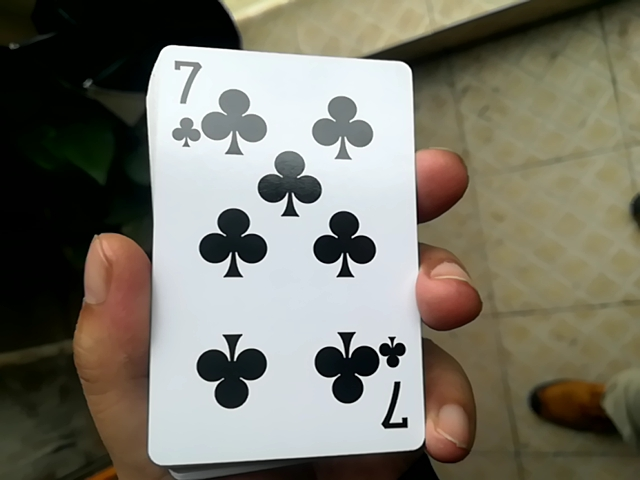mh 7: (128, 27, 431, 458)
